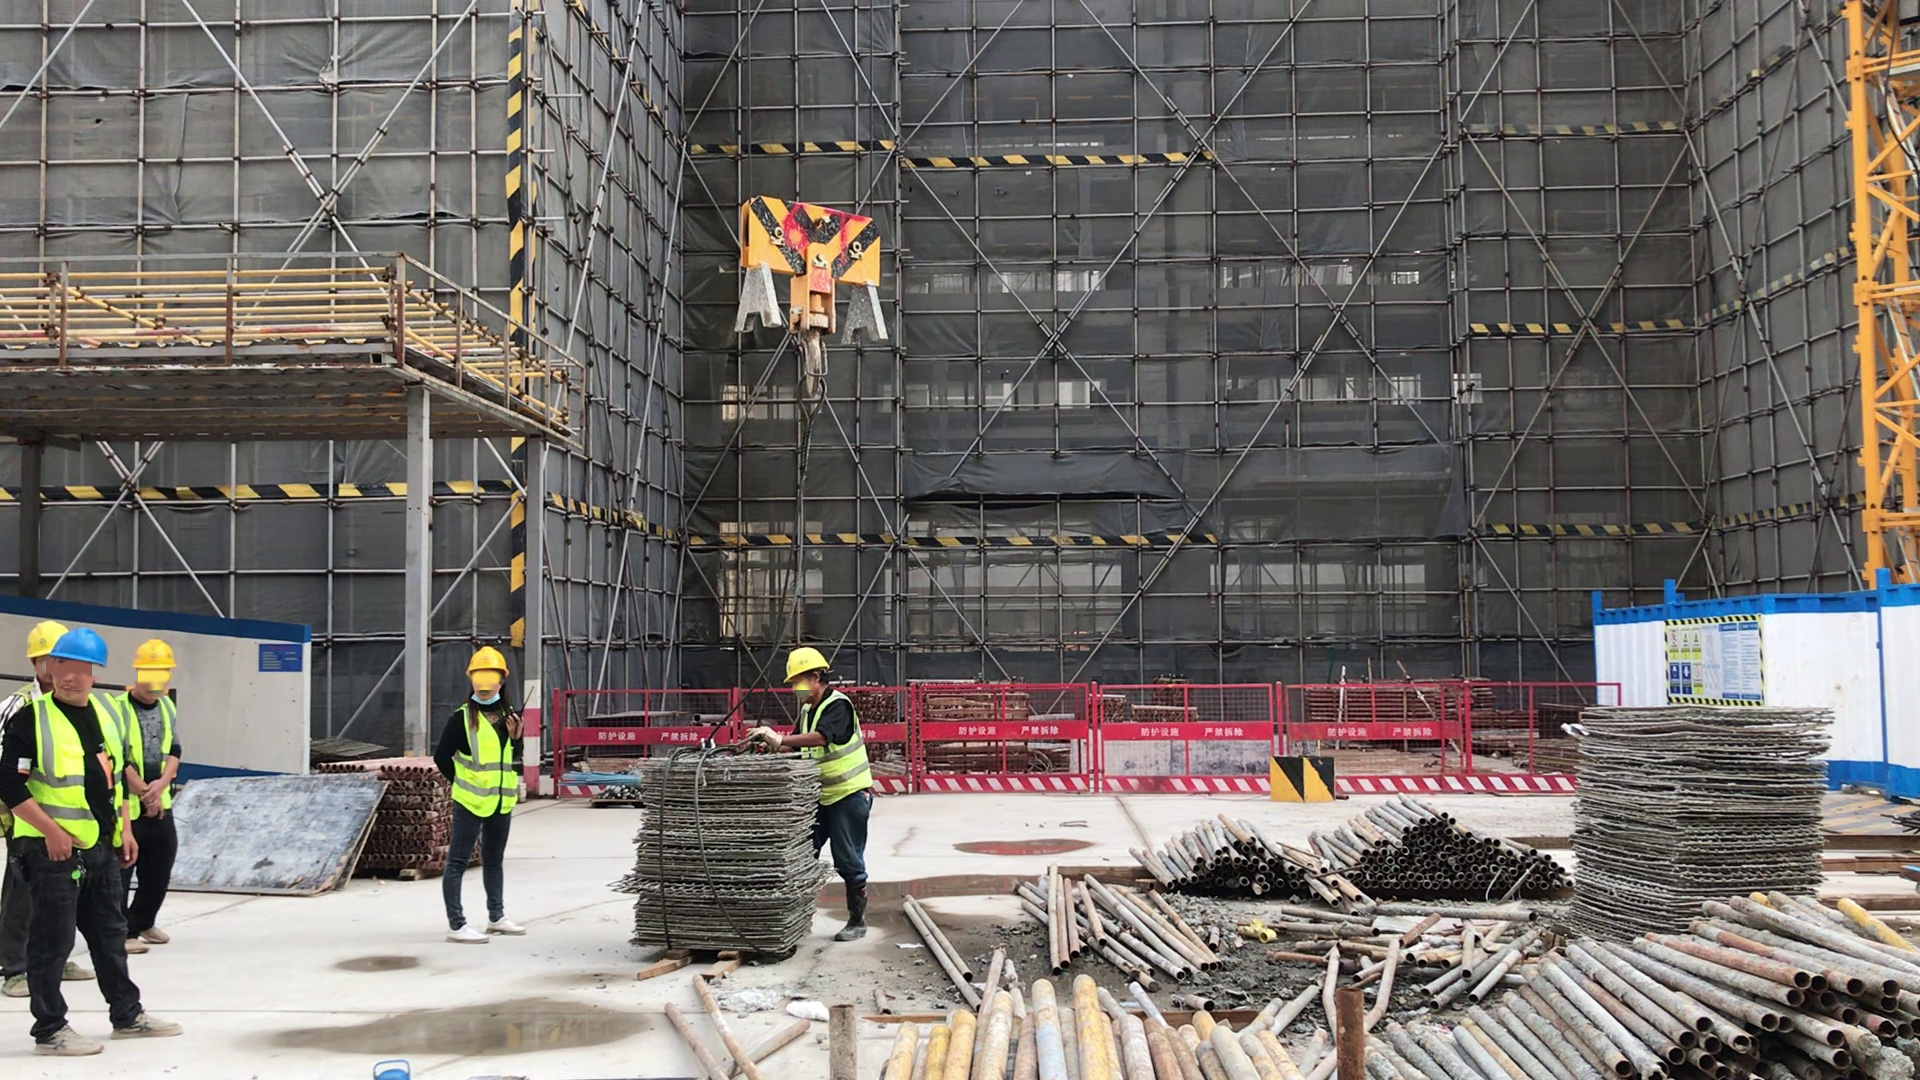fence: (552, 692, 1620, 792)
helmet: (52, 627, 108, 665), (782, 645, 831, 681), (23, 620, 67, 656), (128, 635, 177, 666), (466, 642, 509, 673)
hook: (736, 197, 892, 408)
person: (5, 635, 184, 1056), (744, 648, 873, 941), (1, 618, 92, 998), (434, 650, 526, 946), (116, 639, 179, 957)
scaffold: (1567, 711, 1821, 933), (635, 764, 811, 958), (386, 753, 450, 877)
vest: (11, 693, 121, 847), (793, 692, 871, 806), (447, 701, 519, 815), (119, 689, 171, 824)
